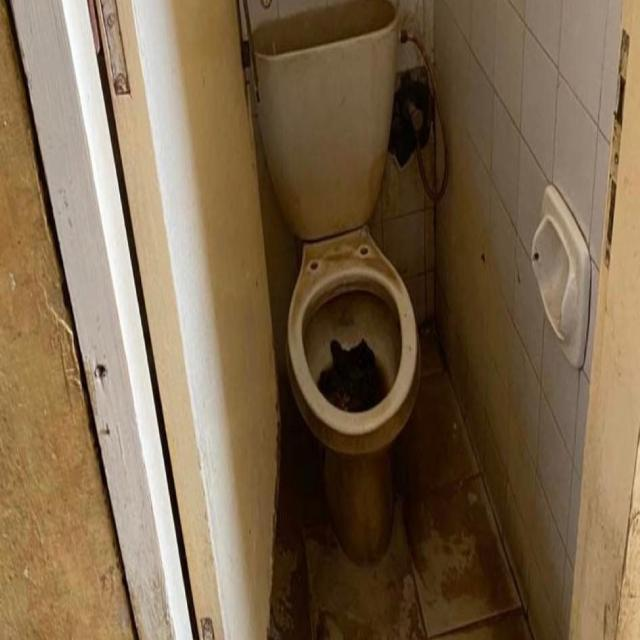dirty_floor: (0, 0, 639, 639), (426, 0, 631, 639), (0, 0, 146, 639), (266, 327, 543, 639), (302, 288, 401, 416), (314, 335, 389, 413)
